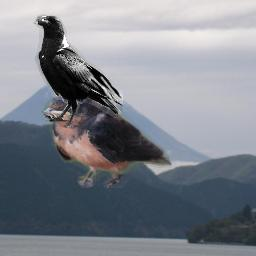Crow: (33, 13, 123, 128)
Swallow: (41, 88, 172, 188)
